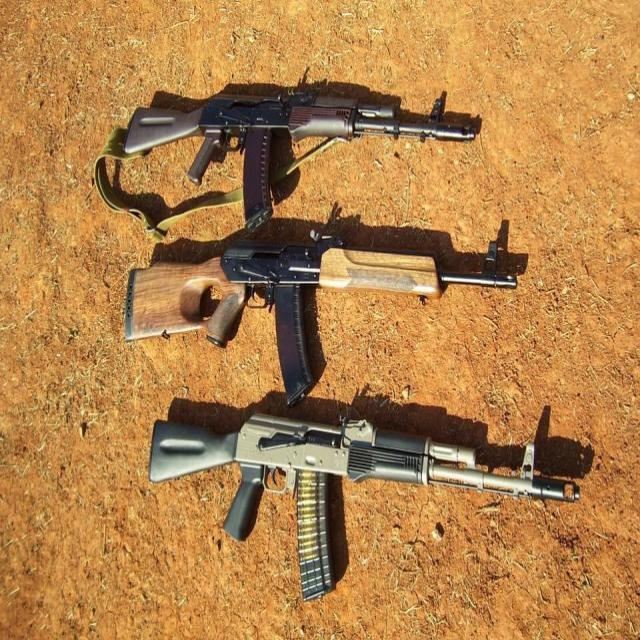weapon: (148, 418, 582, 601), (123, 241, 520, 409), (124, 90, 476, 234)
